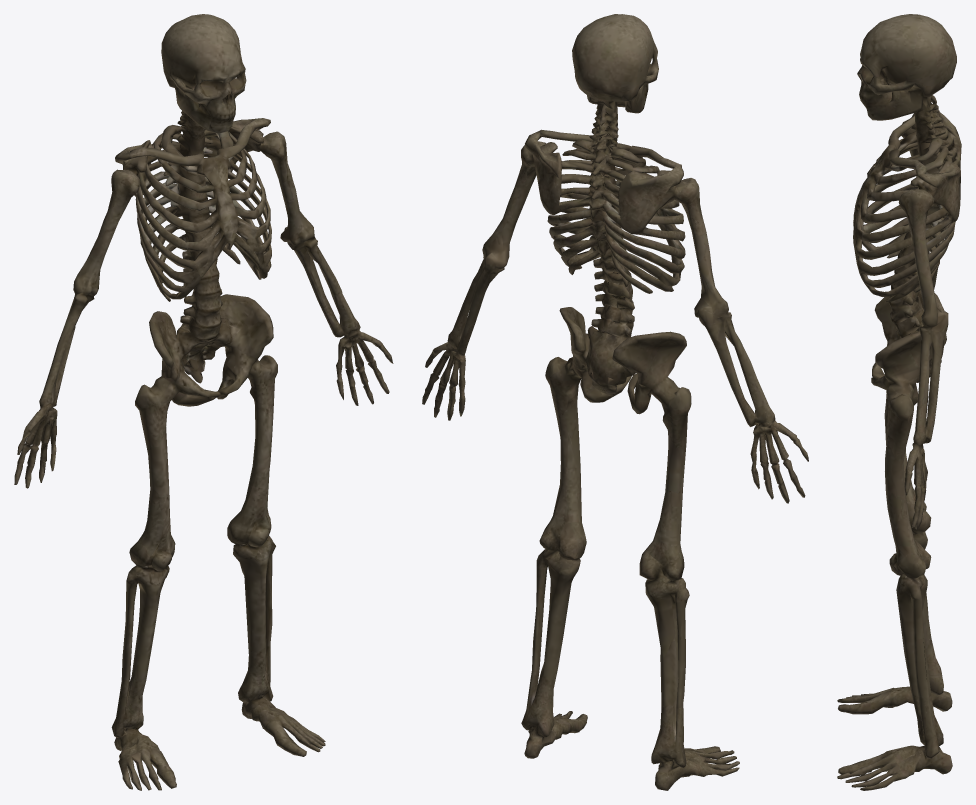
Rendered from skeleton.glb.
3 views of the same model, side by side, from view 1: azimuth 30°, elevation 25°; view 2: azimuth 150°, elevation 25°; view 3: azimuth 270°, elevation 25° (orthographic). The views are drawn at different scales.
Size of the model in its own units: 1.02 by 1.9 by 0.2947.
Materials: 1 (1 with a texture image).
